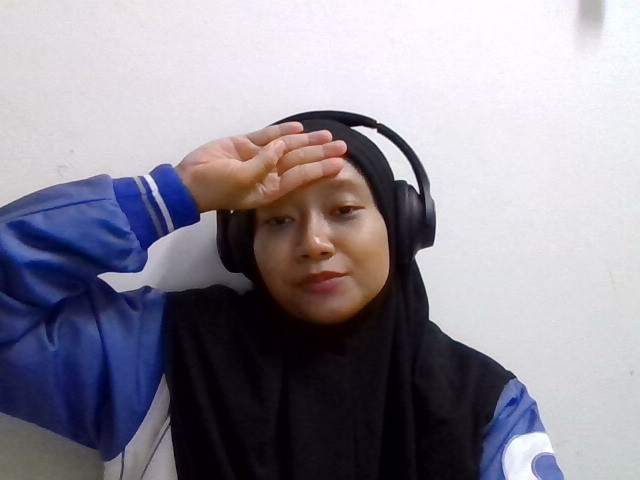Demam: (201, 120, 369, 230)
